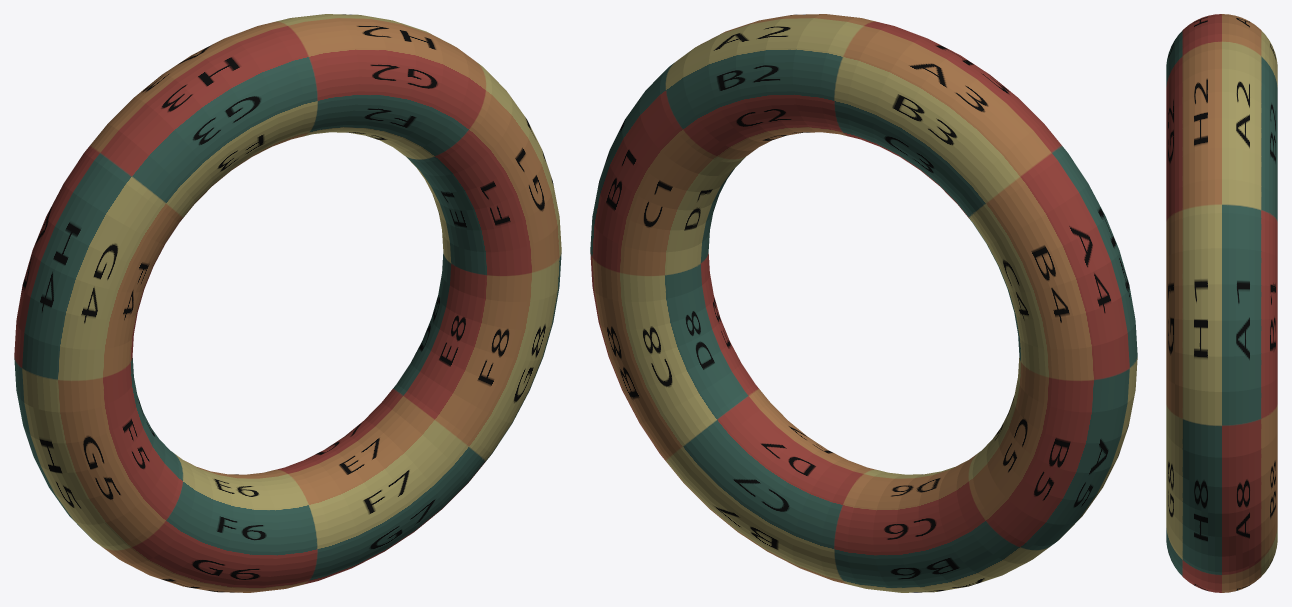
Rendered from texture_torus_R26_r17.glb.
3 views of the same model, side by side, from view 1: azimuth 30°, elevation 25°; view 2: azimuth 150°, elevation 25°; view 3: azimuth 270°, elevation 25° (orthographic). The views are drawn at different scales.
Visible parts, largest first — view 1: world; view 2: world; view 3: world.
Part boxes in pixels (x1,y1,x2,y2): world: [14, 14, 561, 592]; world: [590, 14, 1137, 592]; world: [1166, 14, 1277, 592].
Size of the model in its own units: 33.87 by 33.8 by 6.52.
Materials: 1 (1 with a texture image).
